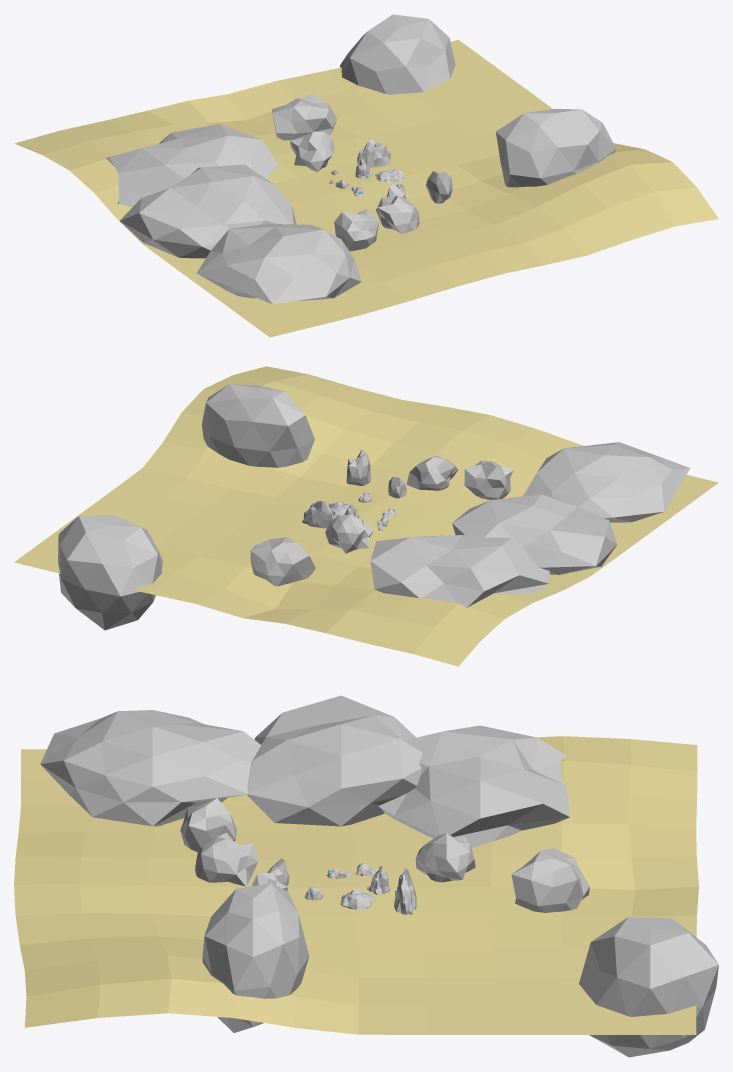
File: Coral v3.fbx
3 views of the same model, one above another, from view 1: azimuth 30°, elevation 25°; view 2: azimuth 150°, elevation 25°; view 3: azimuth 270°, elevation 25° (orthographic). The views are drawn at different scales.
Visible parts, largest first — view 1: ground, Icosphere.011, Icosphere.010, Icosphere.019, Icosphere.012, Icosphere.020, Icosphere.014, Icosphere.016, Icosphere.013, Icosphere.017, Icosphere.018, Icosphere.007; view 2: ground, Icosphere.012, Icosphere.020, Icosphere.011, Icosphere.010, Icosphere.019, Icosphere.014, Icosphere.016, Icosphere.013, Icosphere.017, Icosphere.018, Icosphere.007; view 3: ground, Icosphere.011, Icosphere.010, Icosphere.012, Icosphere.020, Icosphere.019, Icosphere.014, Icosphere.017, Icosphere.013, Icosphere.016, Icosphere.007.
Boxes of the visible parts, x1,y1,x2,y2 form: ground: (14, 40, 718, 337); Icosphere.011: (197, 223, 361, 304); Icosphere.010: (120, 164, 296, 258); Icosphere.019: (496, 109, 616, 187); Icosphere.012: (106, 124, 278, 207); Icosphere.020: (340, 14, 455, 94); Icosphere.014: (271, 94, 336, 140); Icosphere.016: (334, 209, 379, 251); Icosphere.013: (290, 131, 334, 172); Icosphere.017: (376, 195, 419, 233); Icosphere.018: (426, 171, 452, 203); Icosphere.007: (356, 139, 390, 167); ground: (14, 366, 718, 666); Icosphere.012: (370, 534, 549, 607); Icosphere.020: (58, 515, 162, 630); Icosphere.011: (523, 442, 690, 522); Icosphere.010: (452, 494, 617, 574); Icosphere.019: (201, 384, 314, 467); Icosphere.014: (250, 537, 315, 586); Icosphere.016: (464, 460, 513, 499); Icosphere.013: (325, 514, 373, 553); Icosphere.017: (406, 455, 458, 490); Icosphere.018: (346, 449, 370, 485); Icosphere.007: (302, 500, 334, 528); ground: (14, 736, 698, 1034); Icosphere.011: (40, 710, 260, 826); Icosphere.010: (247, 695, 422, 826); Icosphere.012: (378, 725, 569, 847); Icosphere.020: (579, 917, 718, 1057); Icosphere.019: (202, 883, 309, 1032); Icosphere.014: (511, 848, 589, 912); Icosphere.017: (194, 832, 258, 886); Icosphere.013: (415, 833, 475, 882); Icosphere.016: (180, 798, 237, 852); Icosphere.007: (394, 868, 416, 914).
Size of the model in its own units: 113 by 27.36 by 111.
